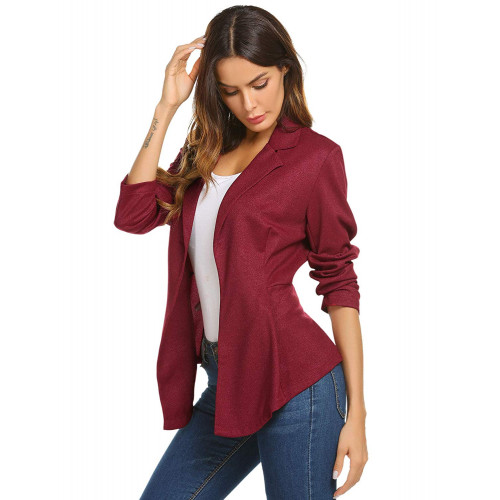F_W_suit jacket: (110, 129, 358, 400)
